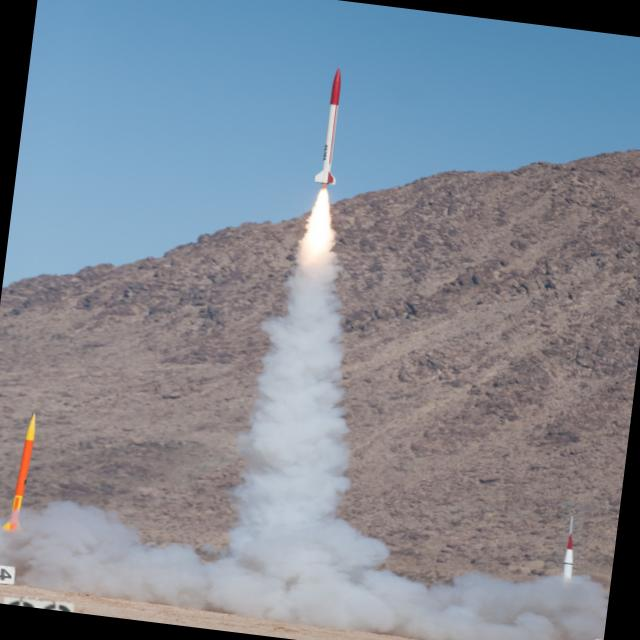rocket: (294, 63, 359, 285)
